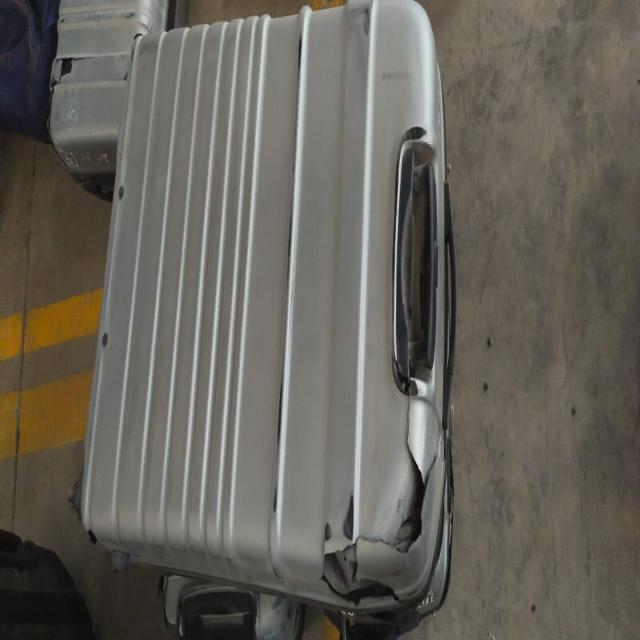Damage-bag: (324, 544, 392, 603), (408, 397, 440, 482), (396, 475, 424, 553), (50, 58, 72, 88), (342, 494, 354, 540)
